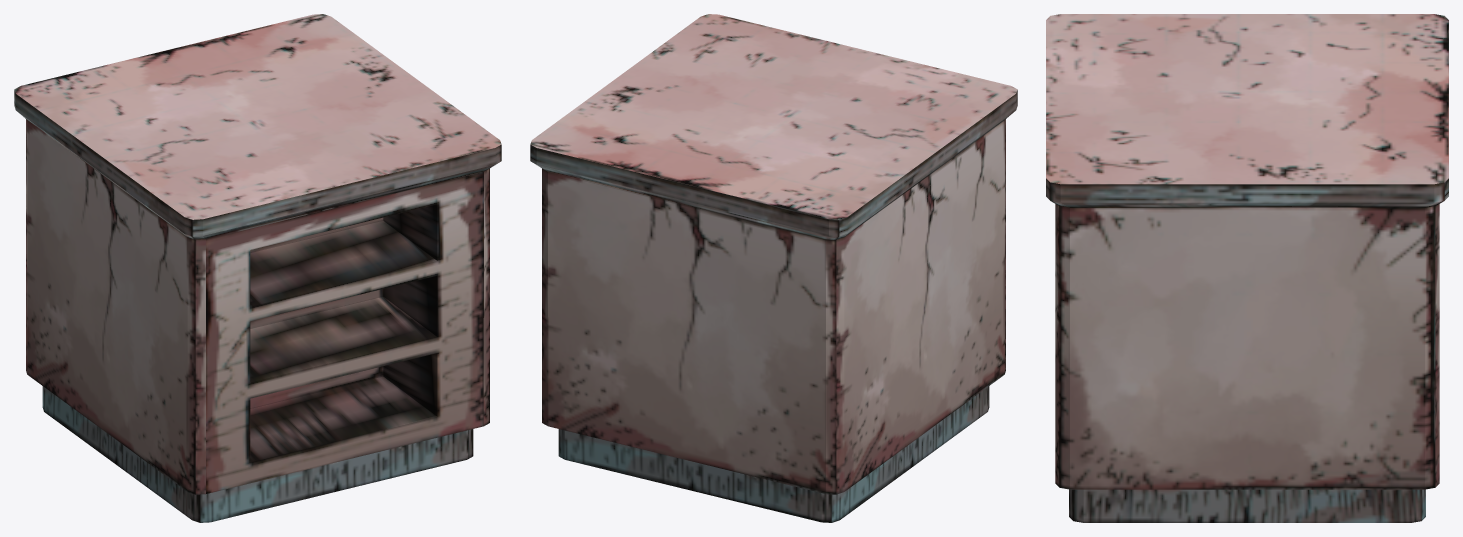
Rendered from CounterTop3.fbx.
3 views of the same model, side by side, from view 1: azimuth 30°, elevation 25°; view 2: azimuth 150°, elevation 25°; view 3: azimuth 270°, elevation 25° (orthographic). The views are drawn at different scales.
Parts seen in each view (by area): view 1: CounterTop3; view 2: CounterTop3; view 3: CounterTop3.
Part boxes in pixels (x1=…): CounterTop3: x1=14, y1=14, x2=501, y2=522; CounterTop3: x1=530, y1=14, x2=1017, y2=522; CounterTop3: x1=1046, y1=14, x2=1448, y2=522.
Bounding box in the file's own units: 96.14 × 91.71 × 96.14.
